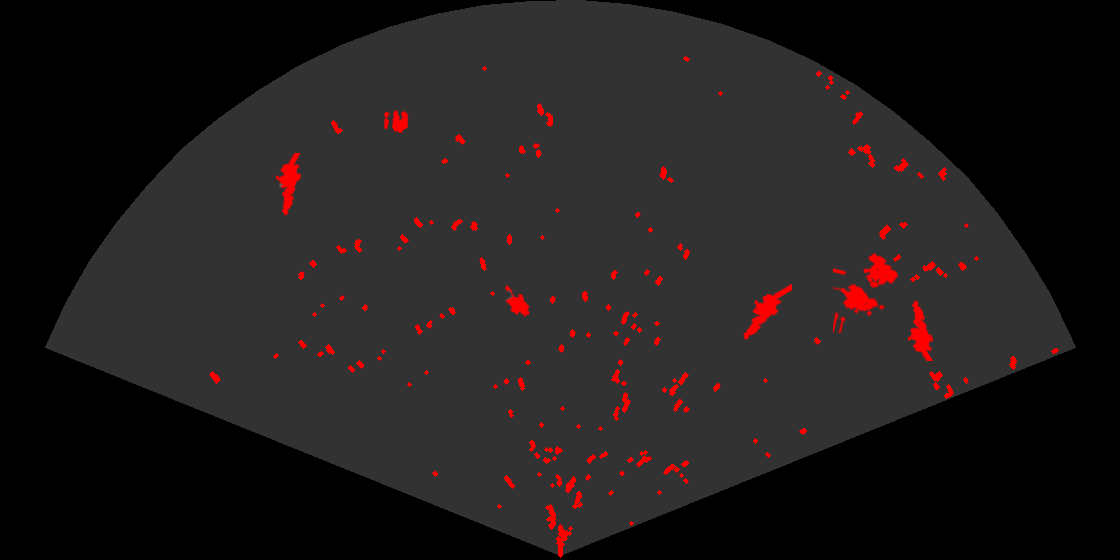AUV: (504, 284, 531, 318)
ball: (383, 108, 409, 135)
cage: (833, 251, 900, 333)
frogman: (742, 284, 792, 341), (274, 153, 303, 217), (906, 299, 935, 361)
